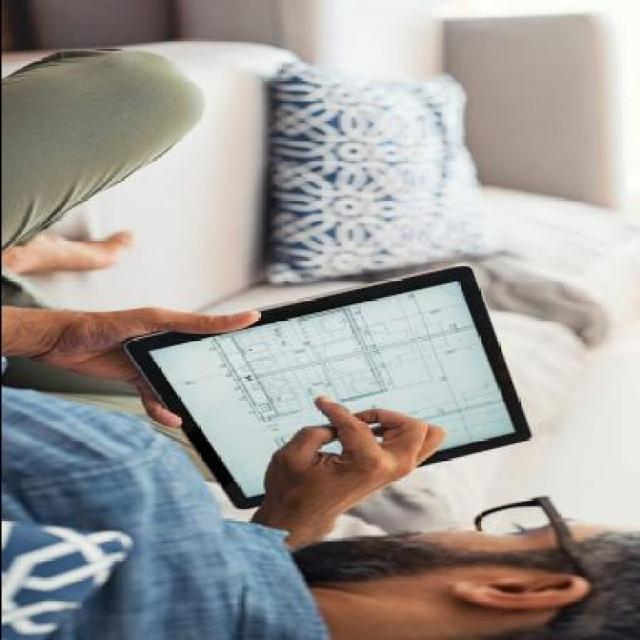tablet: (101, 246, 542, 498)
